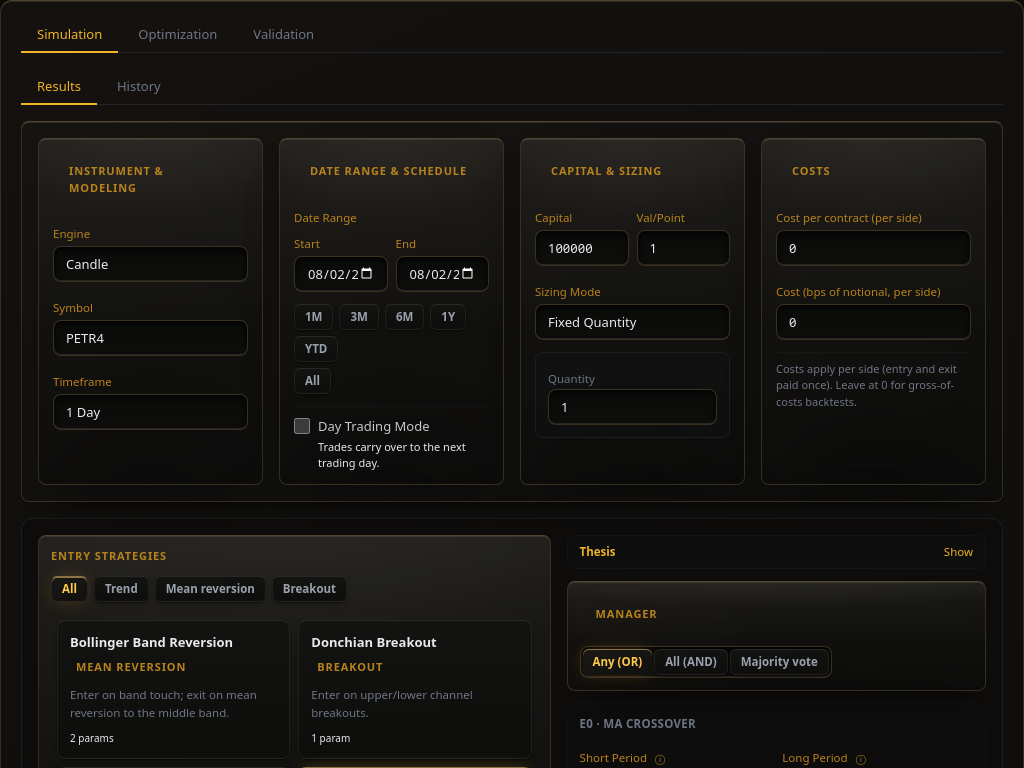
BacktestsWorkspace — workflow mode › switches to Optimization mode from the segmented control
Click the button "Optimization".
click(178, 35)  # box [122,17,233,53]
(page scrolled)
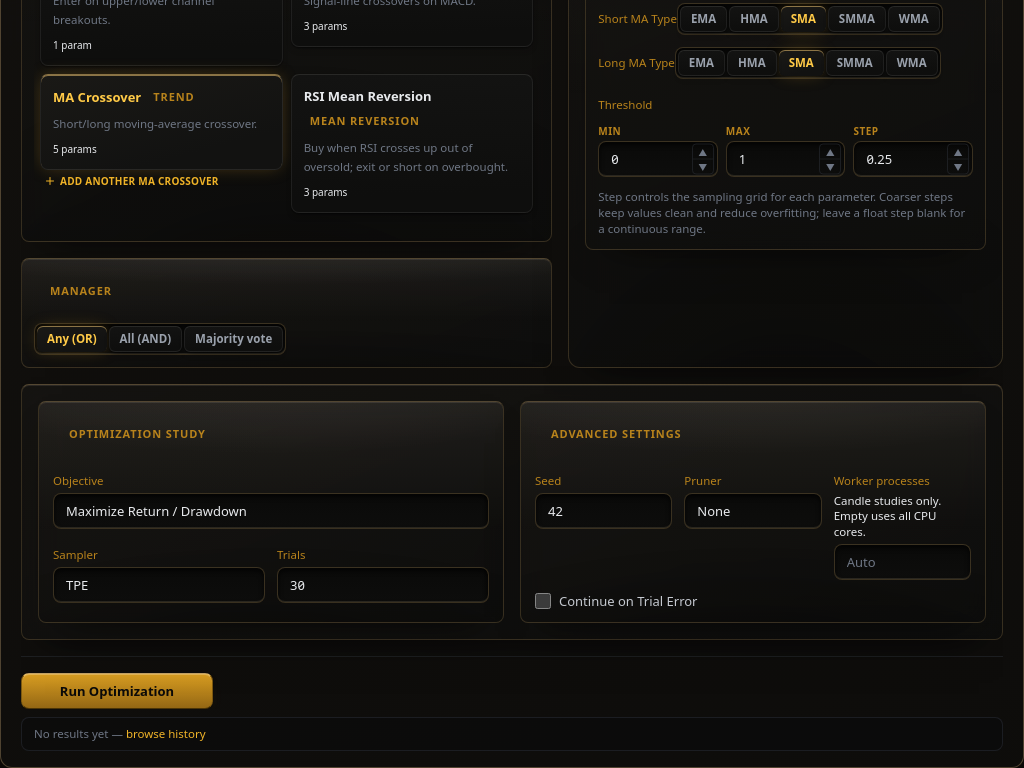
Check: the button "Run Optimization" is shown, box [21,673,213,709]
